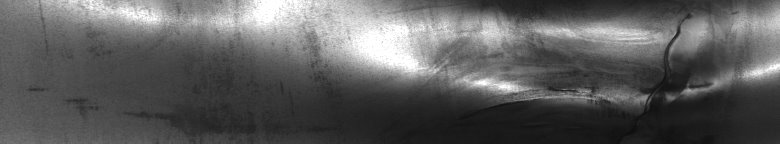ke: (424, 8, 776, 108)
